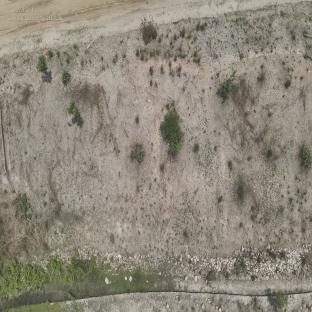rock_toe: (20, 243, 311, 279)
slope_drain: (1, 275, 312, 312)
vegetation: (3, 262, 97, 291), (162, 101, 182, 160)
